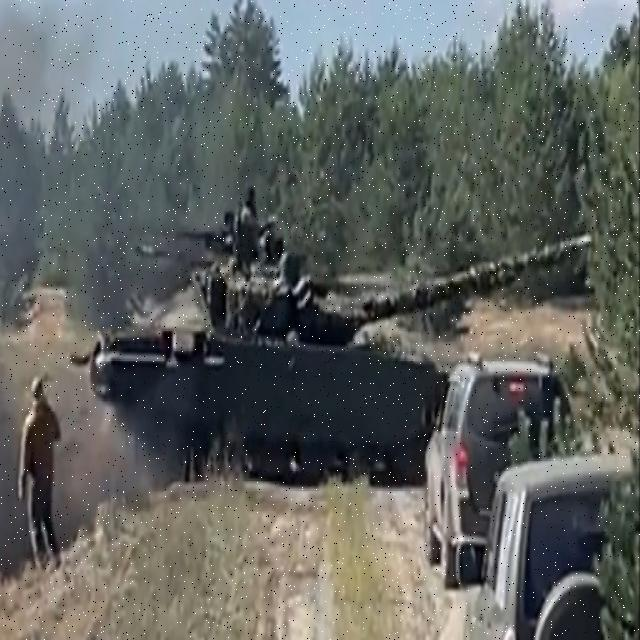CAR: (424, 349, 578, 578), (476, 451, 640, 640)
TANK: (85, 193, 614, 547)
